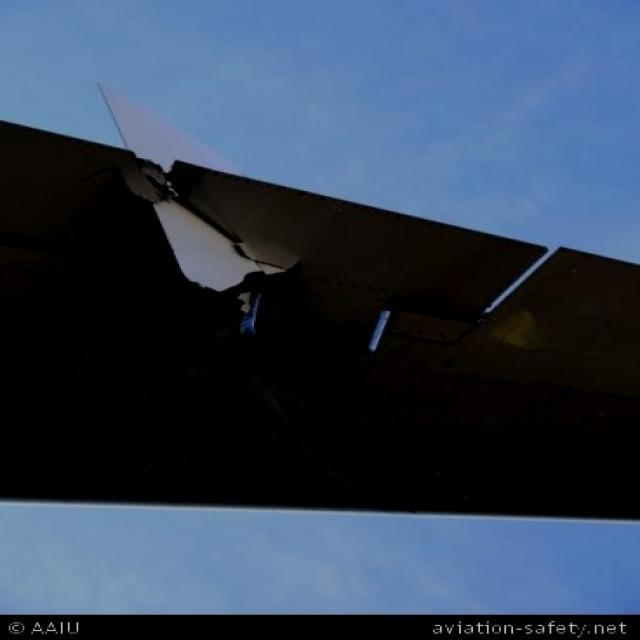crack: (123, 154, 301, 298)
